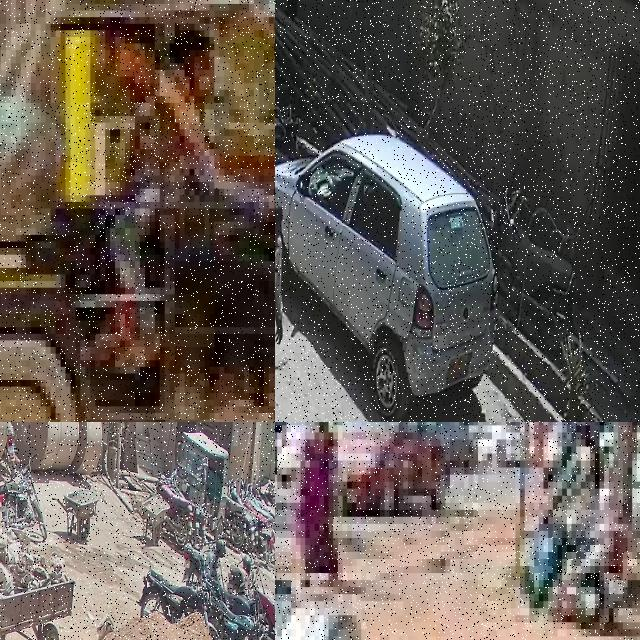bike: (275, 552, 640, 640), (489, 183, 576, 358), (136, 561, 210, 626), (0, 453, 47, 539), (155, 472, 193, 550), (209, 590, 268, 640), (275, 110, 300, 214), (208, 568, 259, 618), (182, 537, 224, 587), (227, 554, 259, 596), (225, 496, 246, 547), (258, 591, 275, 640), (6, 422, 20, 475)
car: (275, 133, 496, 422)
